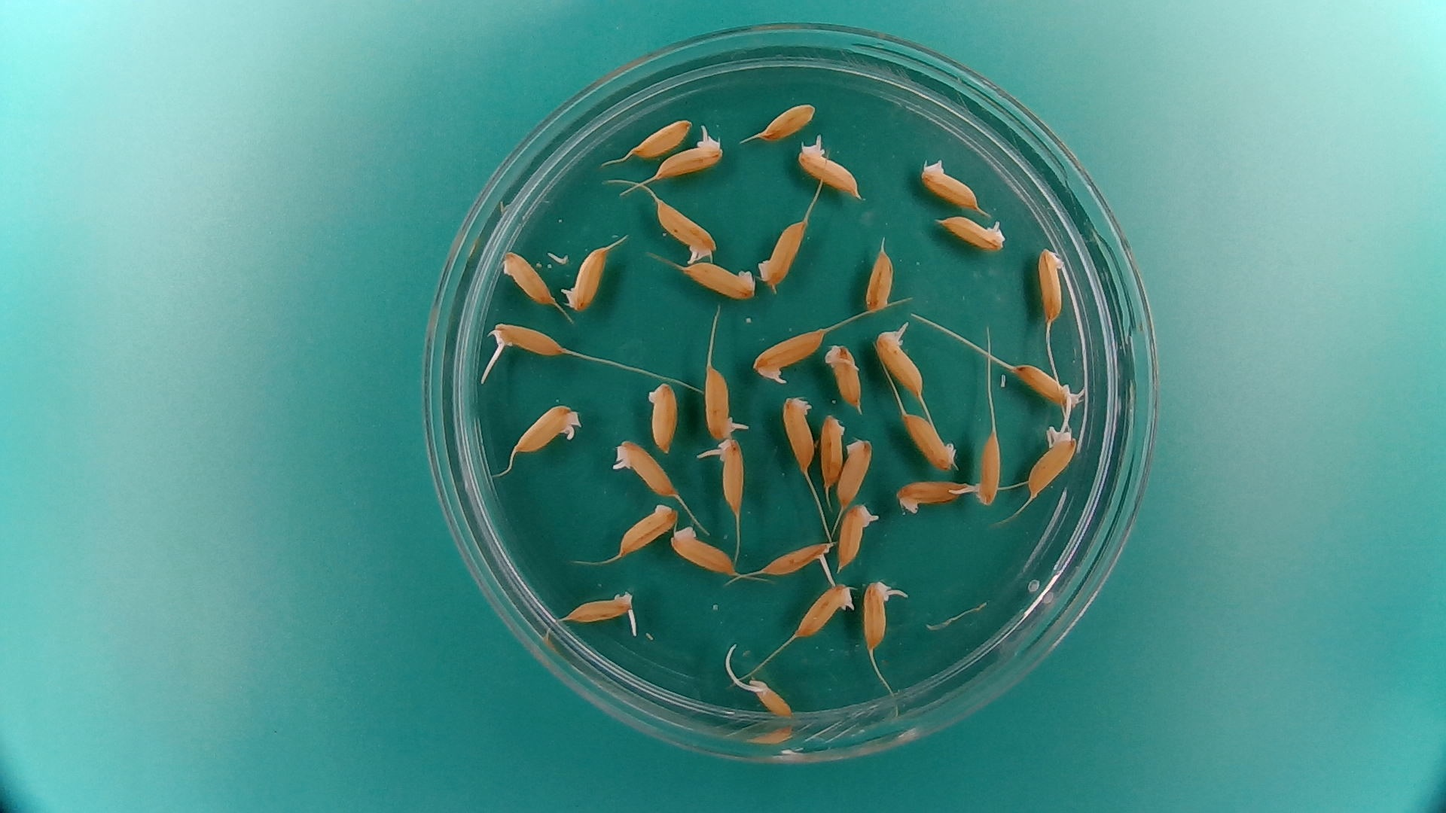no: (917, 154, 984, 212), (756, 215, 809, 288), (614, 501, 678, 559), (900, 409, 959, 471), (793, 580, 855, 639), (499, 248, 558, 309), (668, 525, 737, 577), (862, 576, 907, 654), (676, 259, 761, 300), (822, 338, 866, 410), (780, 392, 817, 473), (627, 114, 692, 160), (645, 377, 681, 455), (836, 435, 874, 508), (755, 99, 818, 142), (1037, 242, 1069, 324), (892, 478, 963, 514), (818, 413, 847, 489), (863, 247, 896, 313)
yes: (649, 196, 718, 265), (748, 324, 827, 384), (1021, 424, 1082, 501), (870, 321, 926, 399), (611, 437, 681, 498), (651, 126, 726, 181), (559, 240, 612, 314), (510, 400, 581, 455), (703, 361, 751, 441), (484, 318, 566, 362), (794, 142, 862, 195), (1011, 363, 1082, 411), (960, 431, 1003, 508), (562, 586, 639, 629), (706, 434, 748, 510), (935, 212, 1010, 253), (758, 537, 834, 576), (837, 500, 880, 568), (746, 674, 796, 720)
